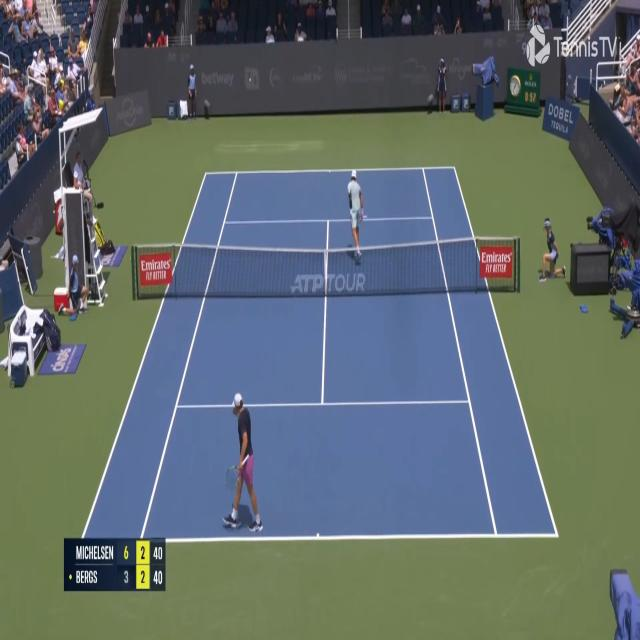tennis-player: (222, 388, 266, 538), (346, 166, 366, 262)
